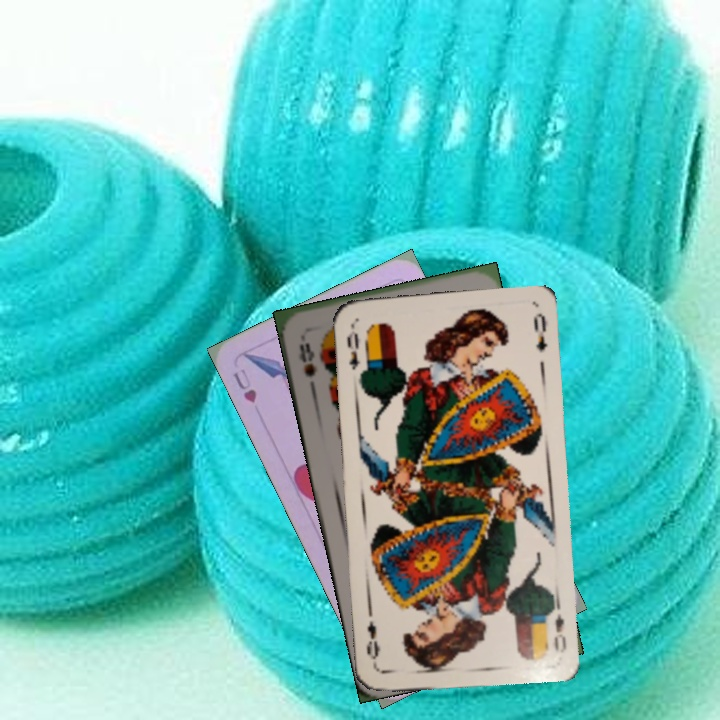EO: (543, 598, 569, 656), (343, 320, 363, 372)
HU: (229, 364, 260, 406)
S8: (295, 339, 319, 379)
